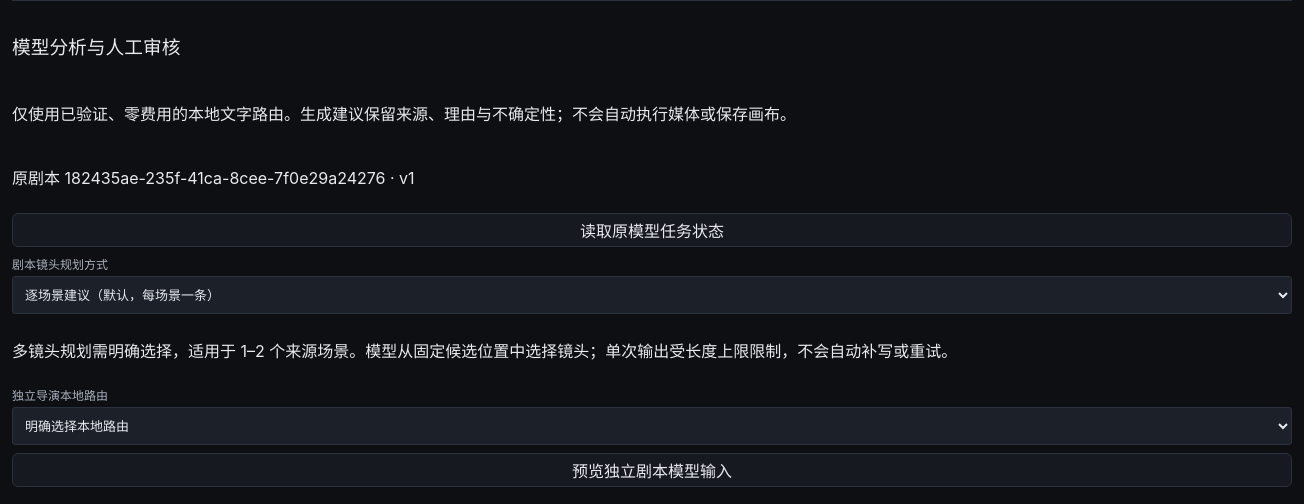
locks the opt-in while preview is pending and deduplicates repeated gestures
Select "多镜头规划（每场景 1–3 个候选镜头）" in the dropdown labelled "剧本镜头规划方式" at (652, 295), box 12,276 -> 1292,314
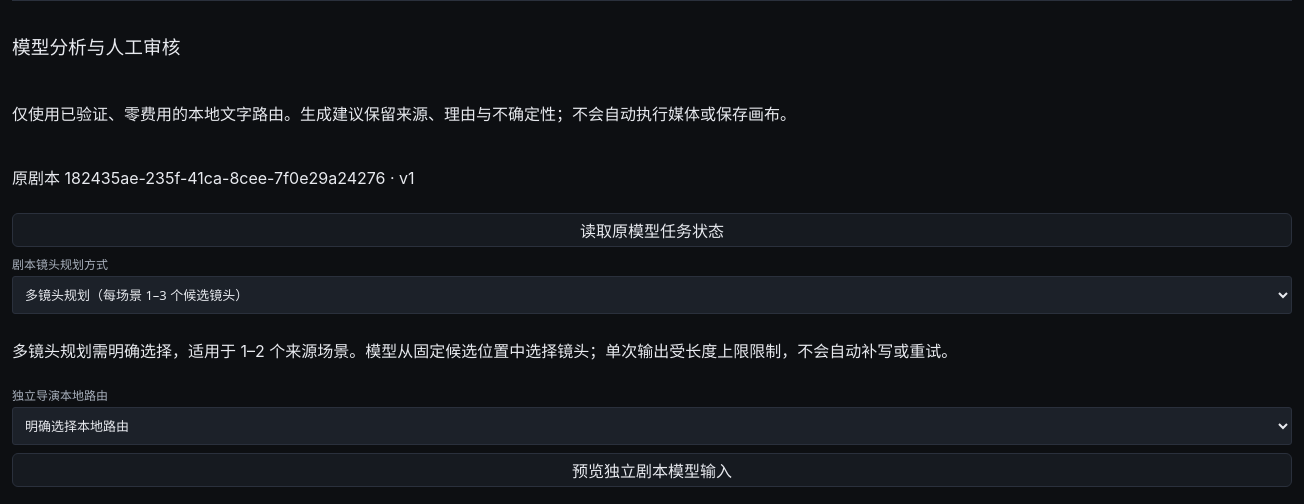
Select "fixture-local-provider / fixture-local-text" in the dropdown labelled "独立导演本地路由" at (652, 426), box 12,407 -> 1292,445
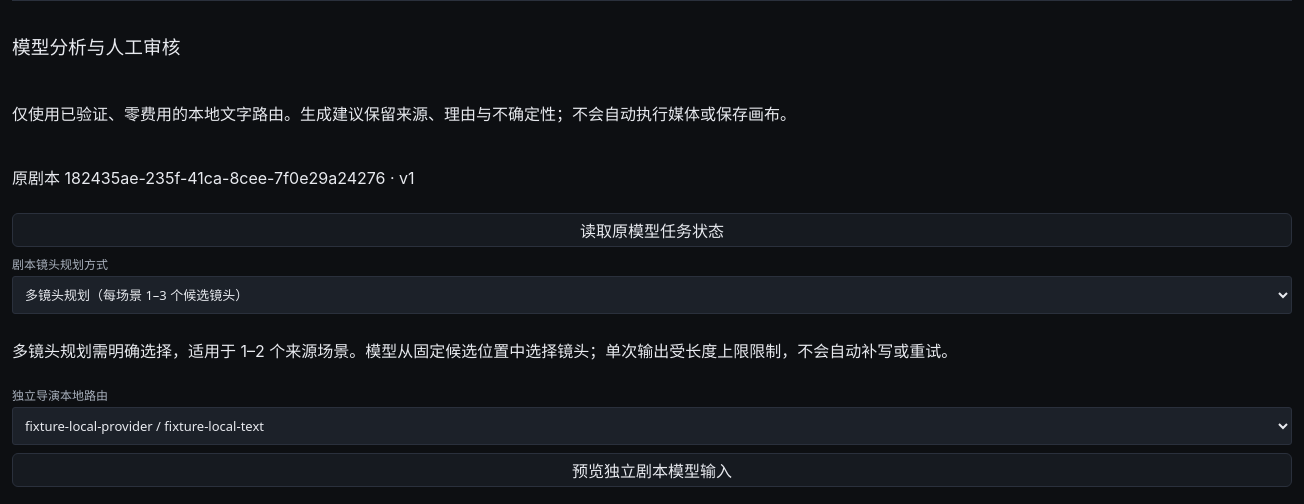
Click the button "预览独立剧本模型输入".
click(652, 470)  # box 12,453 -> 1292,487
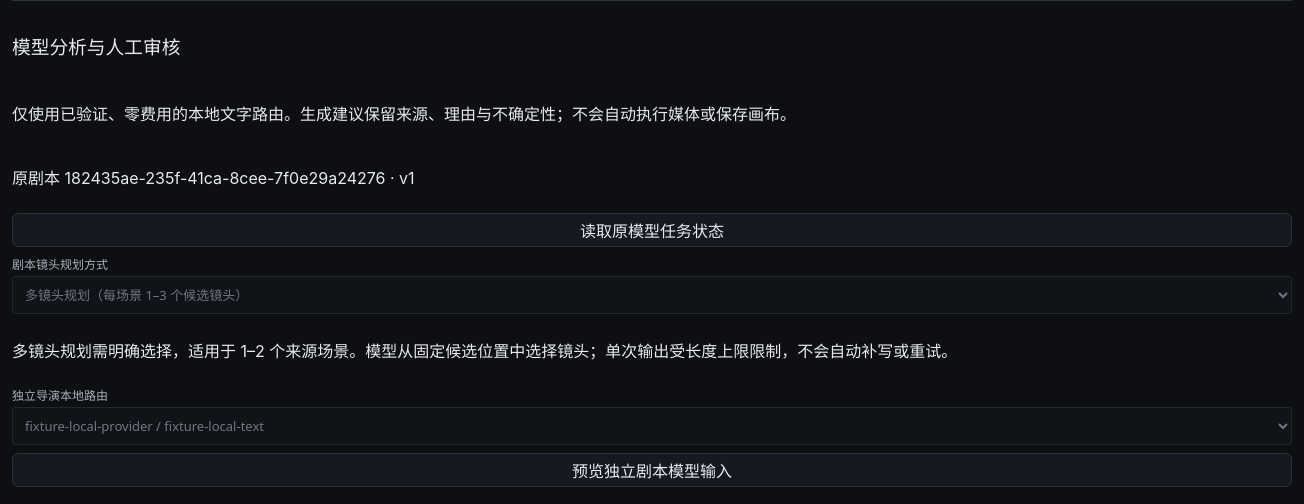
Check: the dropdown labelled "剧本镜头规划方式" is disabled
Select "逐场景建议（默认，每场景一条）" in the dropdown labelled "剧本镜头规划方式" at (652, 295), box 12,276 -> 1292,314
Click the button "预览独立剧本模型输入".
click(652, 470)  # box 12,453 -> 1292,487
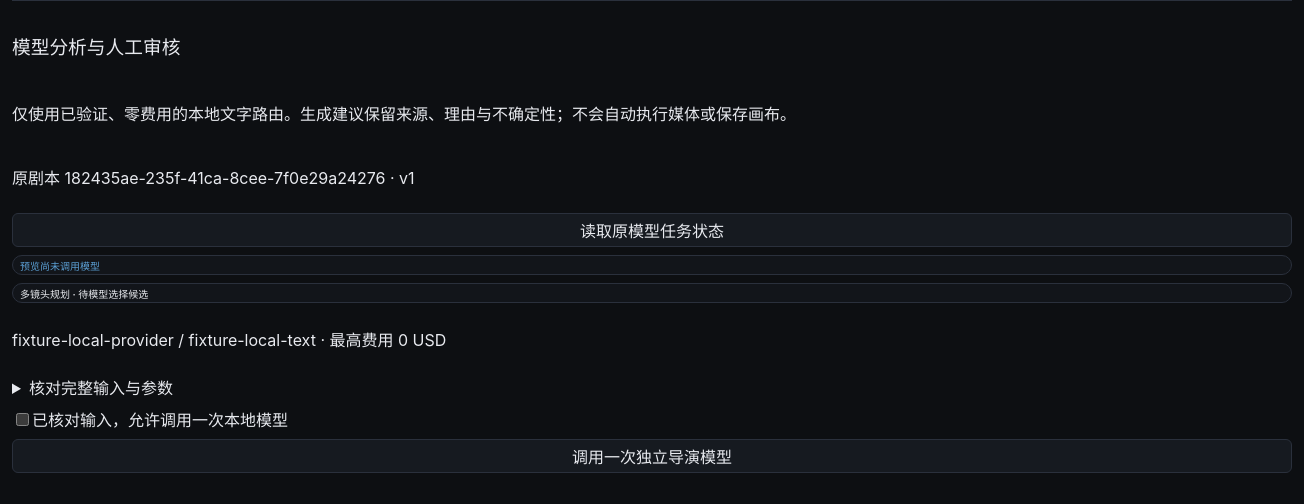
Check: the button "调用一次独立导演模型" is disabled, box 12,439 -> 1292,473
Check: the text "多镜头规划 · 待模型选择候选" is shown, box 12,283 -> 1292,303
